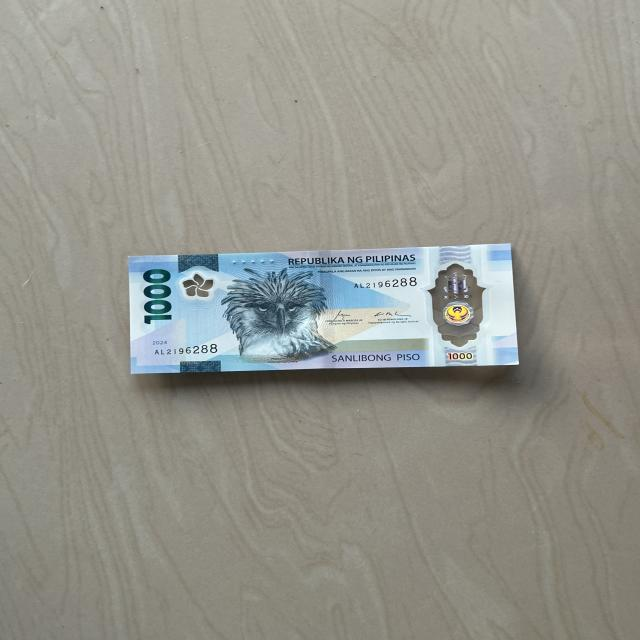clear_window: (426, 260, 492, 348)
eagle: (220, 269, 330, 361)
sampaguita: (182, 271, 216, 300)
